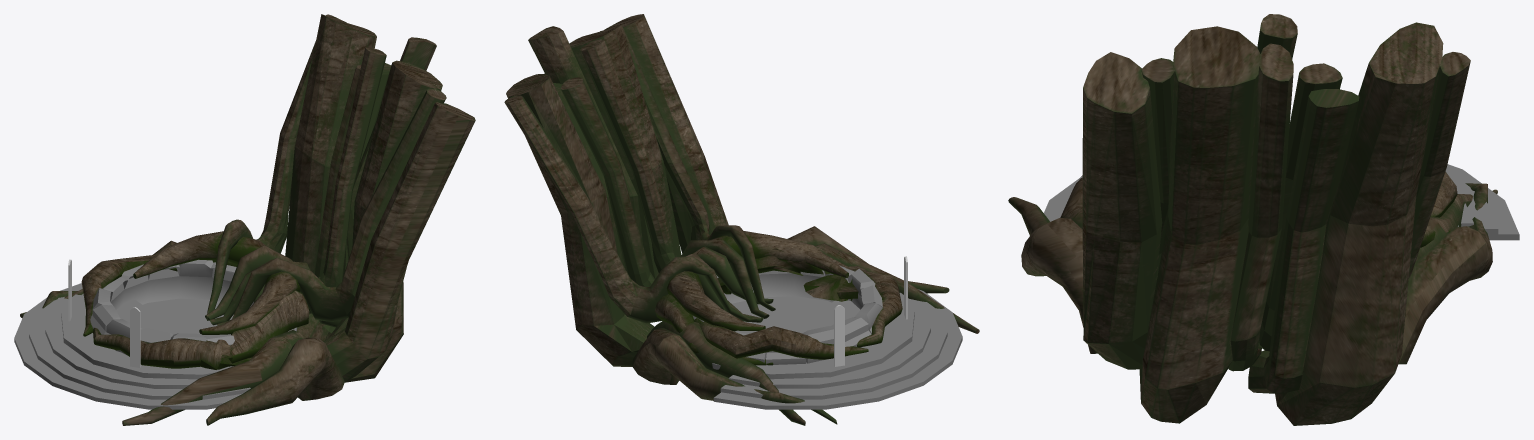
File: treewell.fbx
3 views of the same model, side by side, from view 1: azimuth 30°, elevation 25°; view 2: azimuth 150°, elevation 25°; view 3: azimuth 270°, elevation 25° (orthographic). The views are drawn at different scales.
Parts seen in each view (by area): view 1: upper roots, Yggwell, lowroots, tablet r; view 2: upper roots, Yggwell, lowroots, tablet l; view 3: upper roots, Yggwell, lowroots.
Boxes of the visible parts, box(x1,y1,x2,y2) form: upper roots: box(20, 14, 475, 425); Yggwell: box(14, 259, 297, 409); lowroots: box(81, 231, 309, 369); tablet r: box(130, 307, 140, 367); upper roots: box(504, 14, 979, 425); Yggwell: box(693, 265, 962, 409); lowroots: box(655, 231, 902, 365); tablet l: box(834, 305, 844, 366); upper roots: box(1008, 14, 1497, 425); Yggwell: box(1044, 164, 1519, 240); lowroots: box(1420, 171, 1457, 247).
Bounding box in the file's own units: 708 × 498 × 530.
